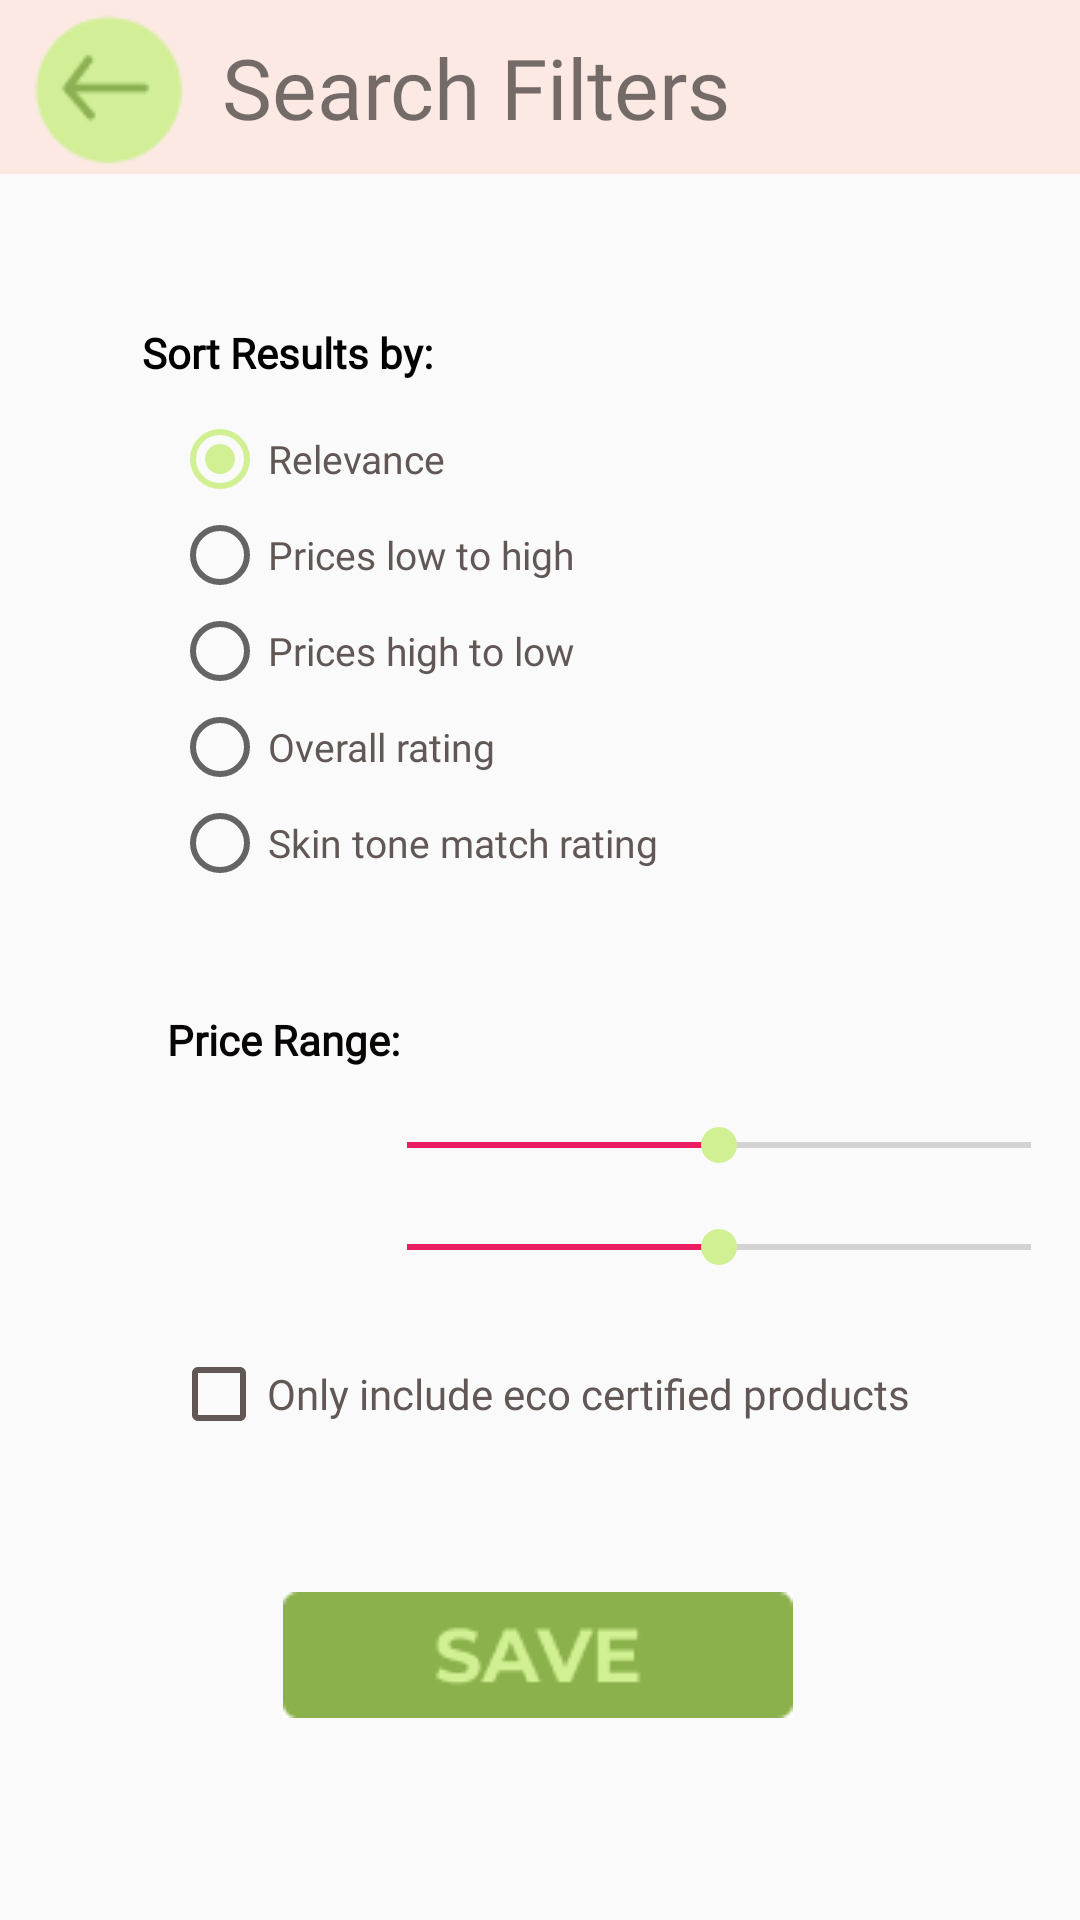

Screen size 1080x1920. Icon name, then its box in pixels as (left=x1, top=y1, right=x2, bottom=y2):
backarrowbutton: (left=35, top=16, right=182, bottom=163)
